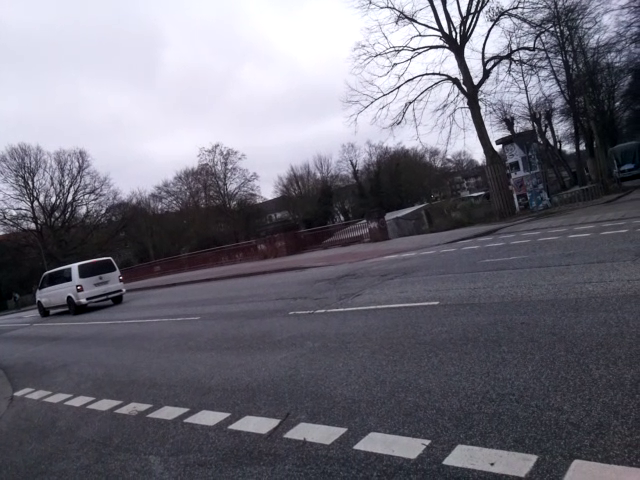car: (34, 250, 128, 329)
